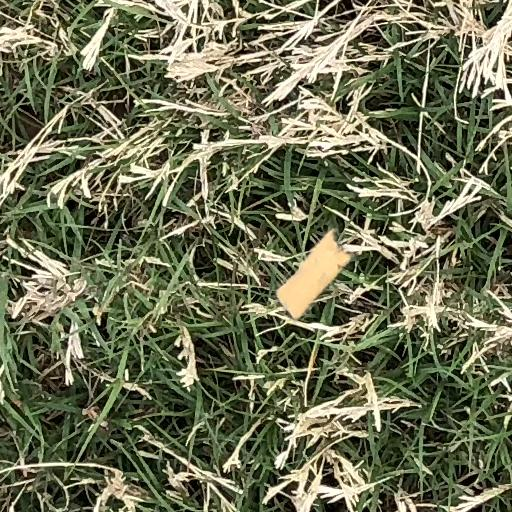smoke: (277, 231, 350, 318)
